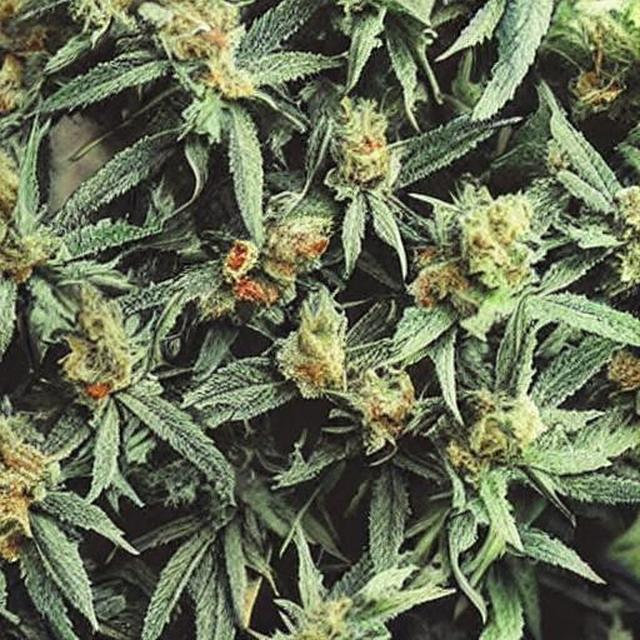Marijuana Joint: (116, 53, 619, 444)
